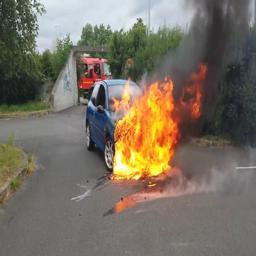fire: (110, 63, 205, 178)
